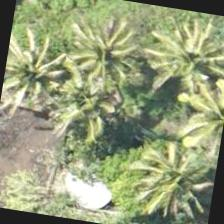Kelapa_Sawit: (54, 4, 158, 107), (118, 124, 222, 223), (135, 5, 223, 109), (0, 19, 78, 119)
